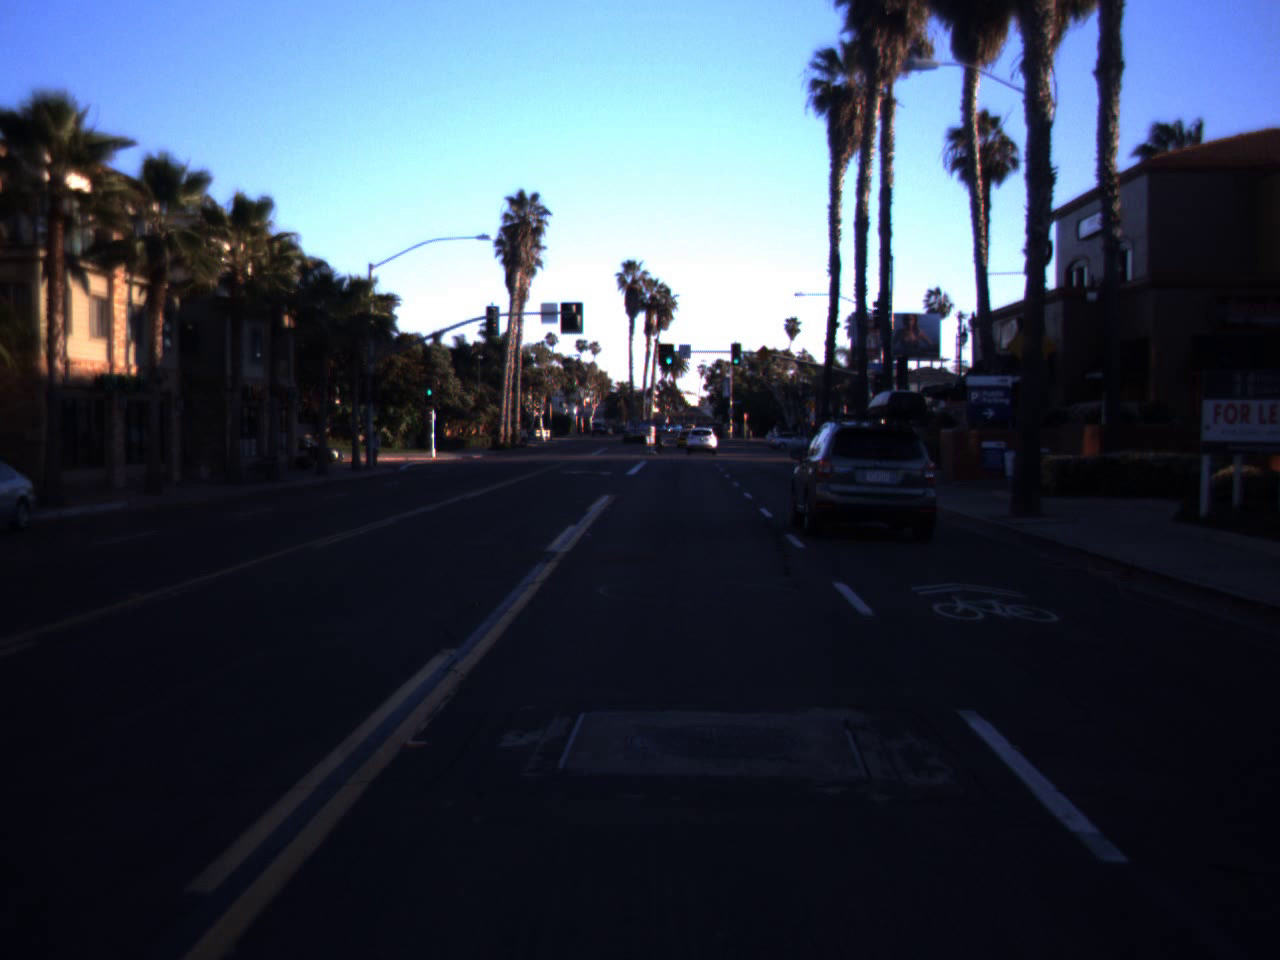go: (423, 376, 435, 396), (730, 345, 742, 365)
